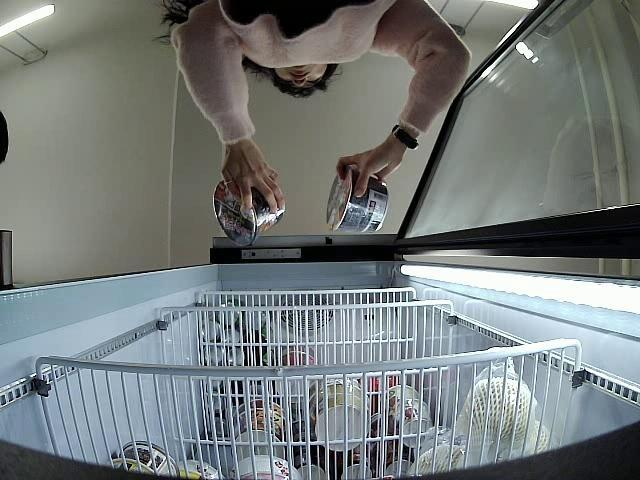07_buldak_L: (212, 178, 283, 244), (326, 170, 389, 235)
